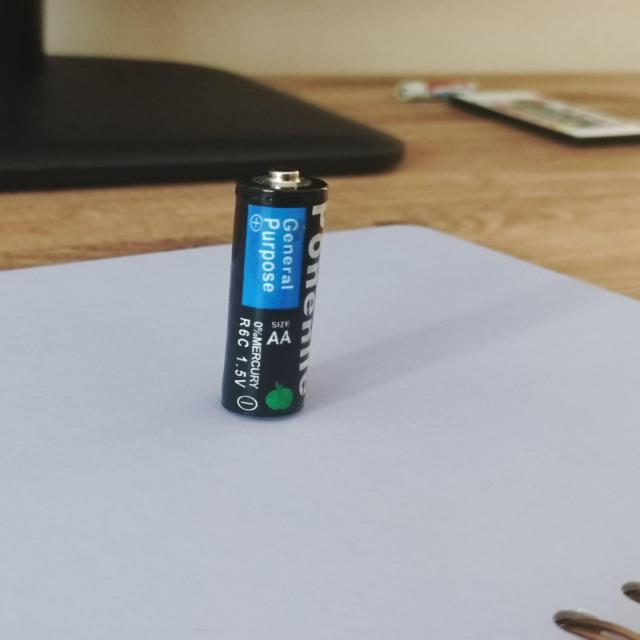AA: (220, 168, 329, 418)
